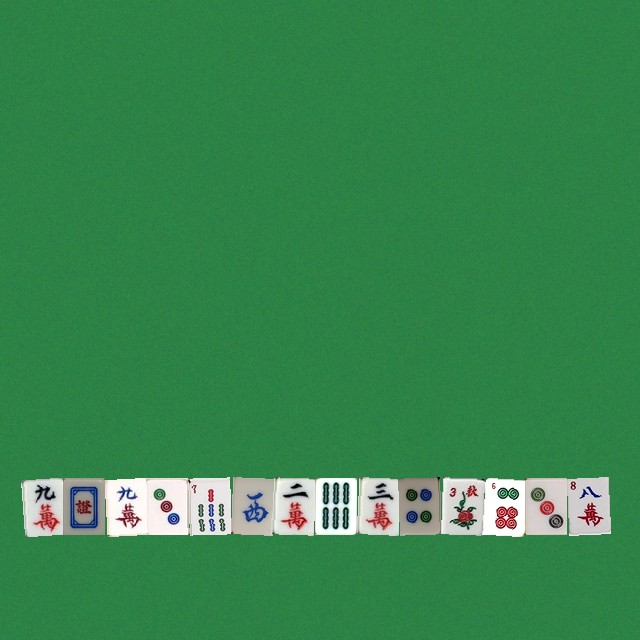tile: (20, 477, 62, 534), (62, 477, 104, 534), (104, 477, 146, 534), (146, 477, 188, 534), (188, 477, 230, 534), (230, 477, 272, 534), (272, 477, 314, 534), (314, 477, 356, 534), (356, 477, 398, 534), (398, 477, 440, 534), (440, 477, 482, 534), (482, 477, 524, 534), (524, 477, 566, 534), (566, 477, 608, 534)
